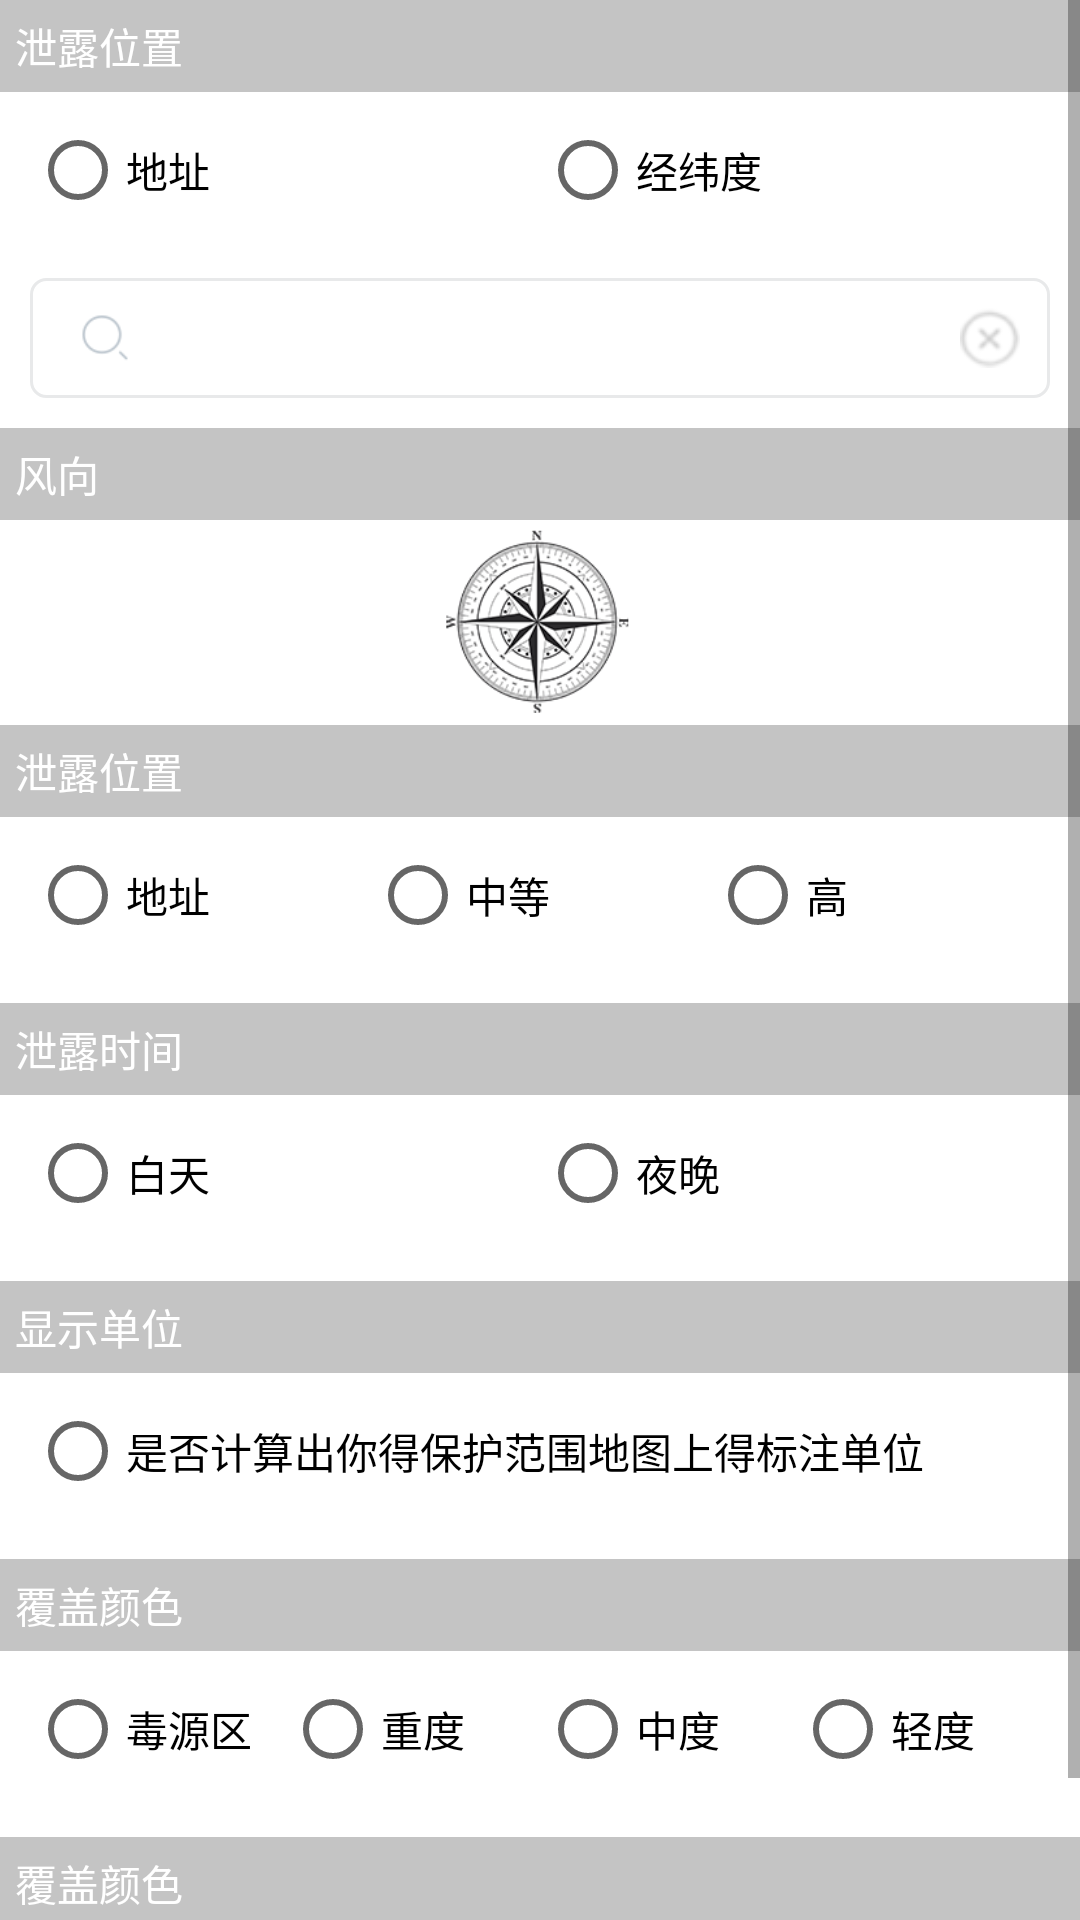

Where icons sit on this 1080x1920 app screen, as [x1,y1,x2,y2]:
direction: [446,530,629,713]
search: [82,315,128,359]
